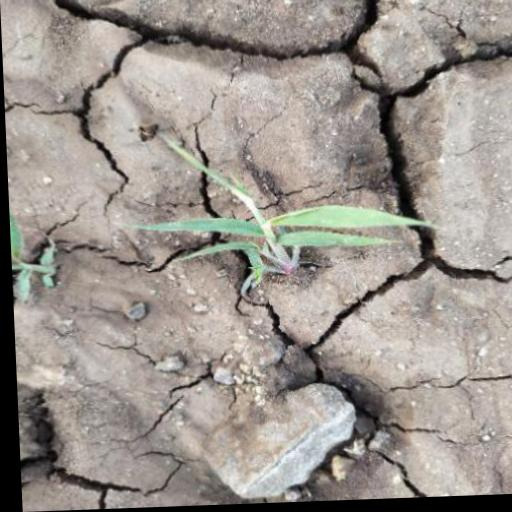crop: (114, 134, 452, 295)
